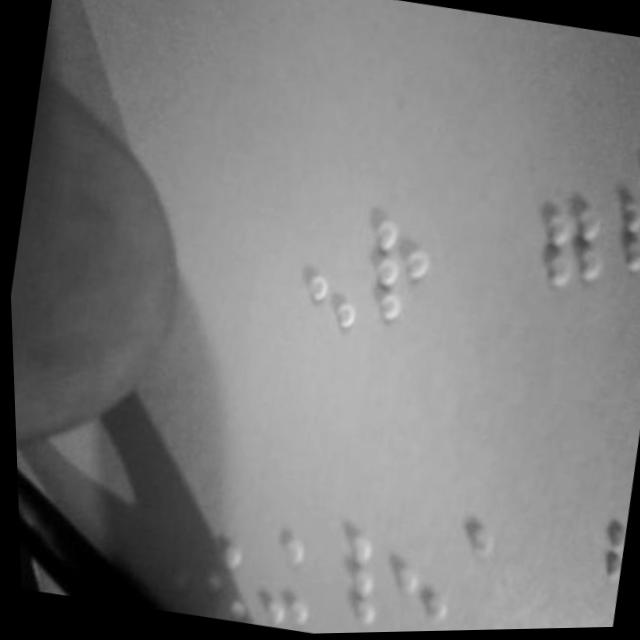braiile: (520, 147, 622, 300), (277, 206, 369, 344), (347, 205, 441, 340), (367, 511, 456, 634), (303, 518, 387, 632), (241, 511, 320, 632), (599, 147, 640, 299)
